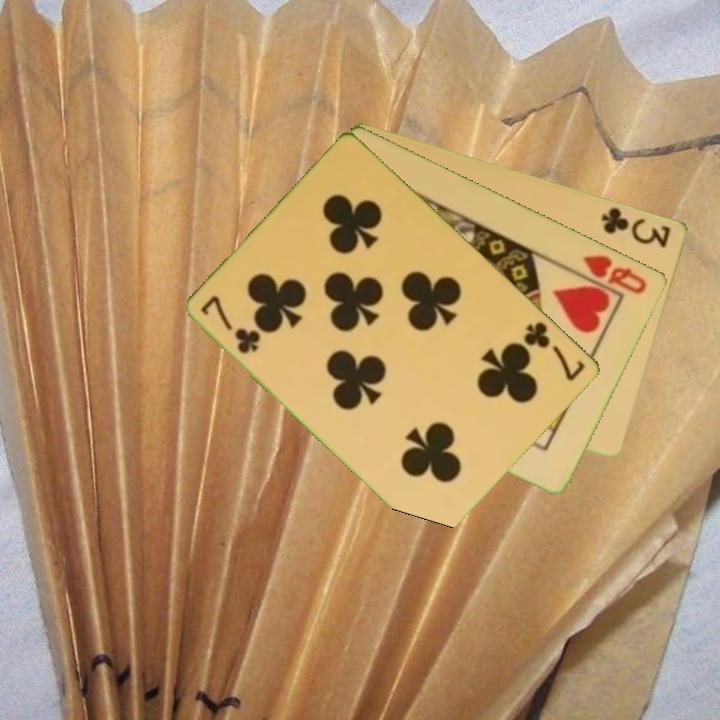3c: (598, 203, 674, 250)
7c: (520, 317, 589, 384), (198, 291, 265, 357)
Qh: (579, 251, 651, 297)
